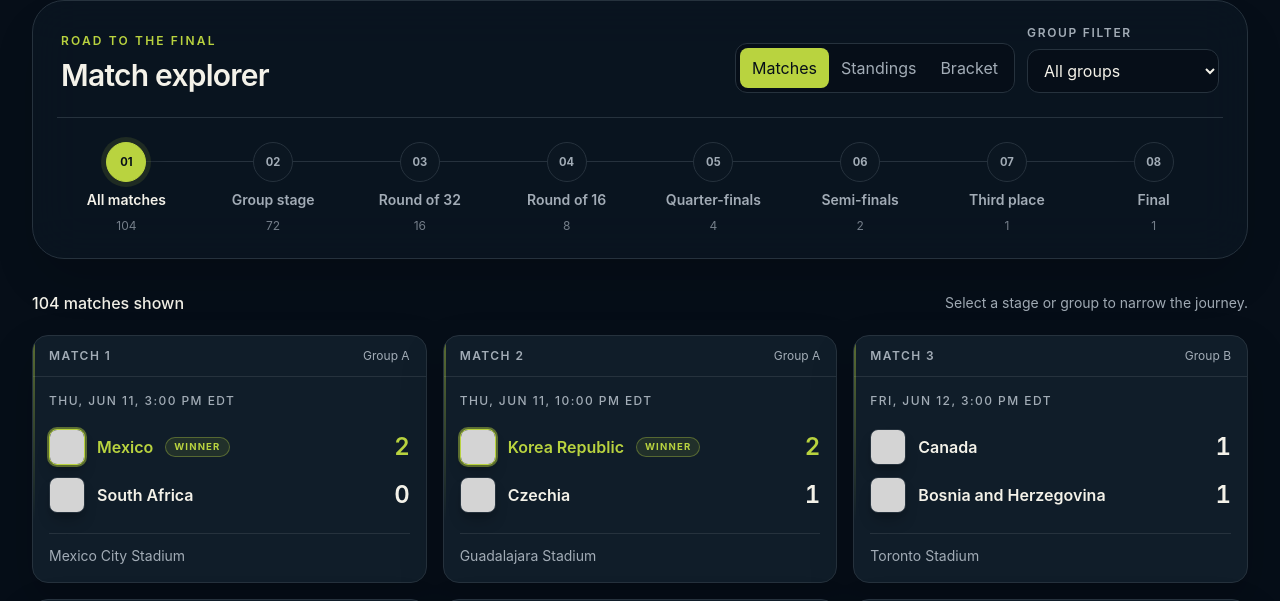
MatchExplorer › shows a lineup fallback for matches without imported team sheets
Click the button with aria-label "View details for Match 1: Mexico versus South Africa" at (229, 459), box [33,336,426,582]
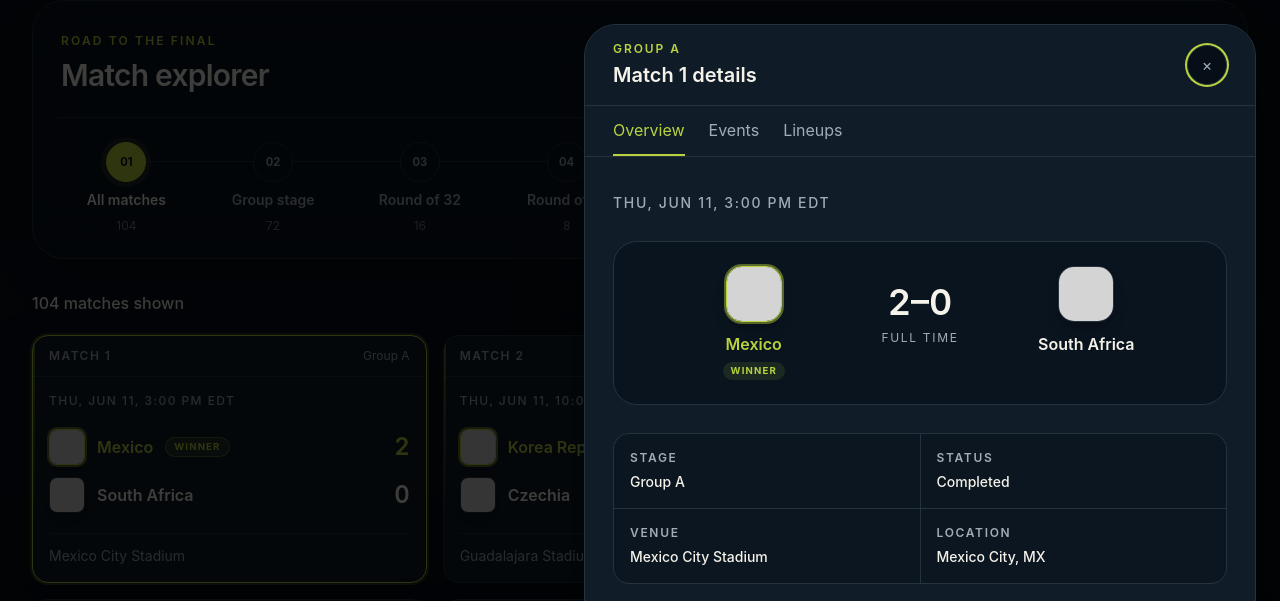
Click the tab "Lineups" at (813, 131), box [783,106,842,156]
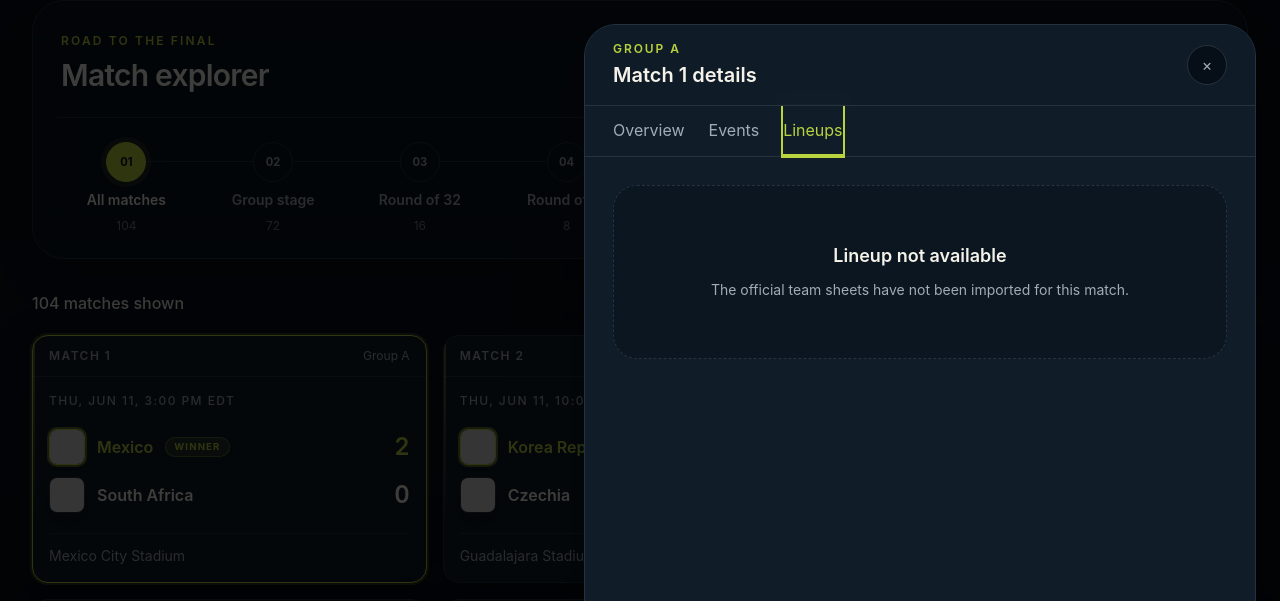
Expected: the text "Lineup not available" is shown, [833,245,1007,266]
